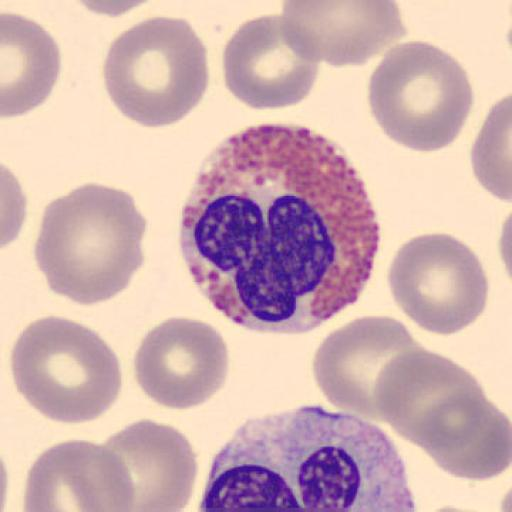RBC: (310, 314, 448, 438), (34, 180, 148, 308), (8, 313, 123, 426), (100, 14, 210, 130), (366, 38, 474, 154), (311, 314, 420, 424), (372, 347, 487, 450), (384, 230, 488, 336), (221, 13, 322, 113), (131, 314, 230, 412), (102, 417, 200, 511), (279, 0, 407, 69), (418, 391, 512, 482), (22, 437, 136, 512), (2, 12, 62, 119), (471, 90, 512, 206), (1, 161, 29, 252), (70, 0, 165, 18), (496, 192, 512, 298), (498, 453, 512, 512), (0, 444, 10, 512), (418, 503, 492, 512)
WBC: (178, 128, 382, 334), (196, 404, 416, 510)
